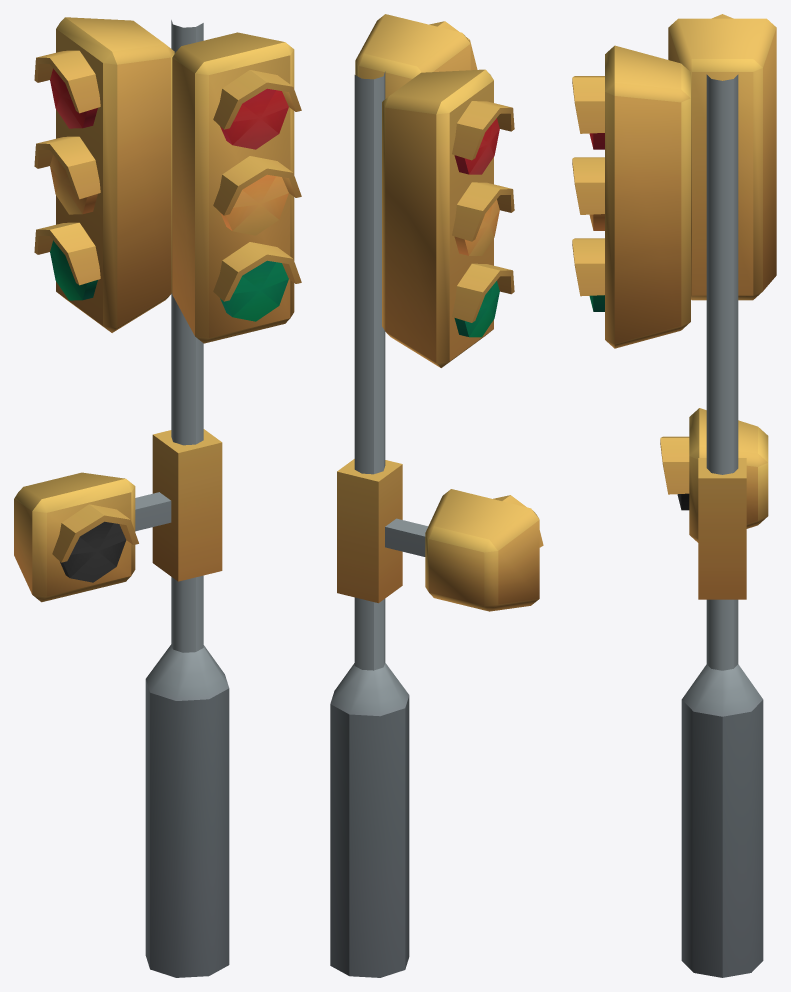
Rendered from traffic_light.glb.
3 views of the same model, side by side, from view 1: azimuth 30°, elevation 25°; view 2: azimuth 150°, elevation 25°; view 3: azimuth 270°, elevation 25° (orthographic). The views are drawn at different scales.
Parts seen in each view (by area): view 1: trafficlight_A; view 2: trafficlight_A; view 3: trafficlight_A.
Boxes of the visible parts, x1,y1,x2,y2 form: trafficlight_A: (14, 17, 301, 977); trafficlight_A: (330, 14, 543, 977); trafficlight_A: (572, 14, 776, 977).
Size of the model in its own units: 0.1744 by 0.7295 by 0.1506.
1 material, 1 textured.
